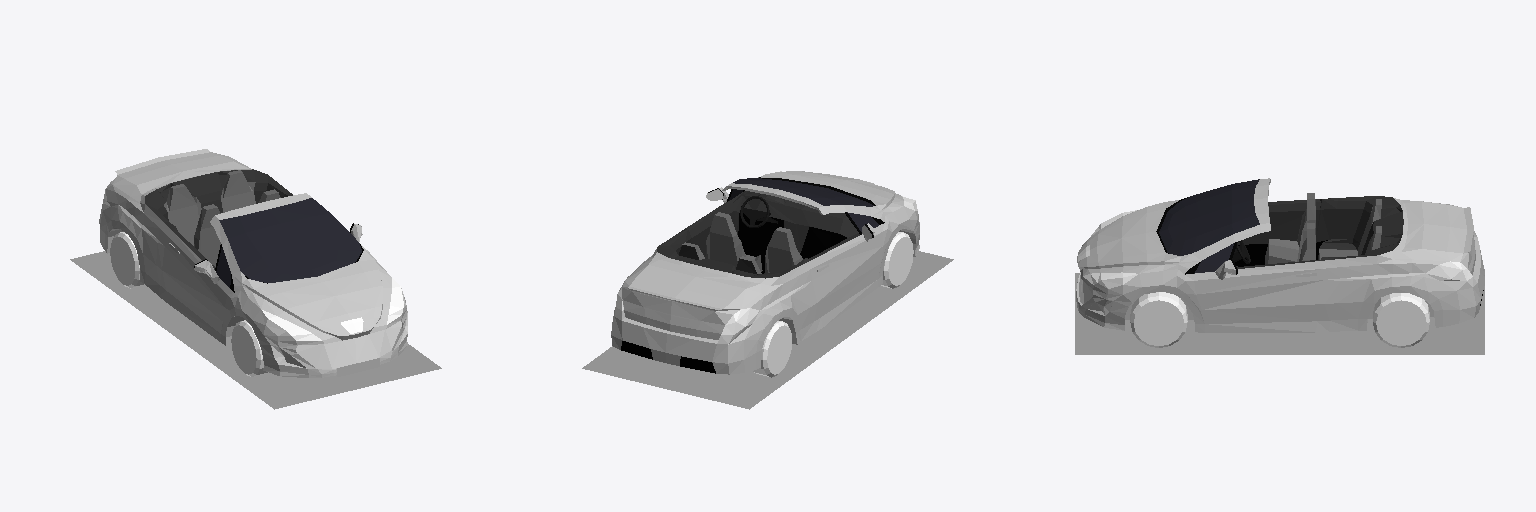
File: Auto3.obj
3 renders of one model, left to right at view 1: azimuth 30°, elevation 25°; view 2: azimuth 150°, elevation 25°; view 3: azimuth 270°, elevation 25°, orthographic.
Visible parts, largest first — view 1: 6, 13, ground_1, 18, 11, 15, 14, 8, 7; view 2: 6, ground_1, 11, 18, 9, 13, 8, 7, 16, 4; view 3: 6, ground_1, 11, 13, 8, 18, 7, 14, 16.
Boxes of the visible parts, box(x1,y1,x2,y2) form: 6: box(99, 149, 407, 377); 13: box(216, 198, 361, 287); ground_1: box(70, 251, 441, 409); 18: box(164, 170, 280, 266); 11: box(145, 169, 292, 269); 15: box(296, 321, 401, 368); 14: box(261, 278, 407, 363); 8: box(112, 240, 254, 370); 7: box(110, 232, 268, 376); 6: box(611, 171, 919, 374); ground_1: box(582, 251, 953, 409); 11: box(657, 191, 859, 278); 18: box(682, 212, 802, 273); 9: box(621, 213, 846, 373); 13: box(729, 178, 878, 231); 8: box(769, 240, 911, 371); 7: box(753, 232, 913, 377); 16: box(616, 281, 758, 334); 4: box(740, 196, 777, 227); 6: box(1076, 178, 1484, 332); ground_1: box(1075, 273, 1484, 354); 11: box(1236, 196, 1403, 268); 13: box(1159, 179, 1259, 273); 8: box(1137, 303, 1423, 342); 18: box(1265, 193, 1381, 264); 7: box(1130, 292, 1429, 347); 14: box(1083, 210, 1137, 315); 16: box(1426, 261, 1472, 280).
Size of the model in its own units: 210 by 139 by 444.